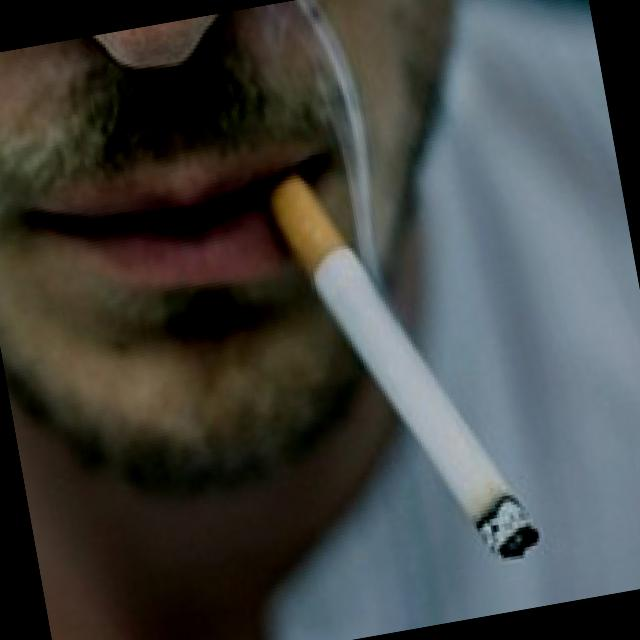cigarette: (268, 150, 544, 592)
